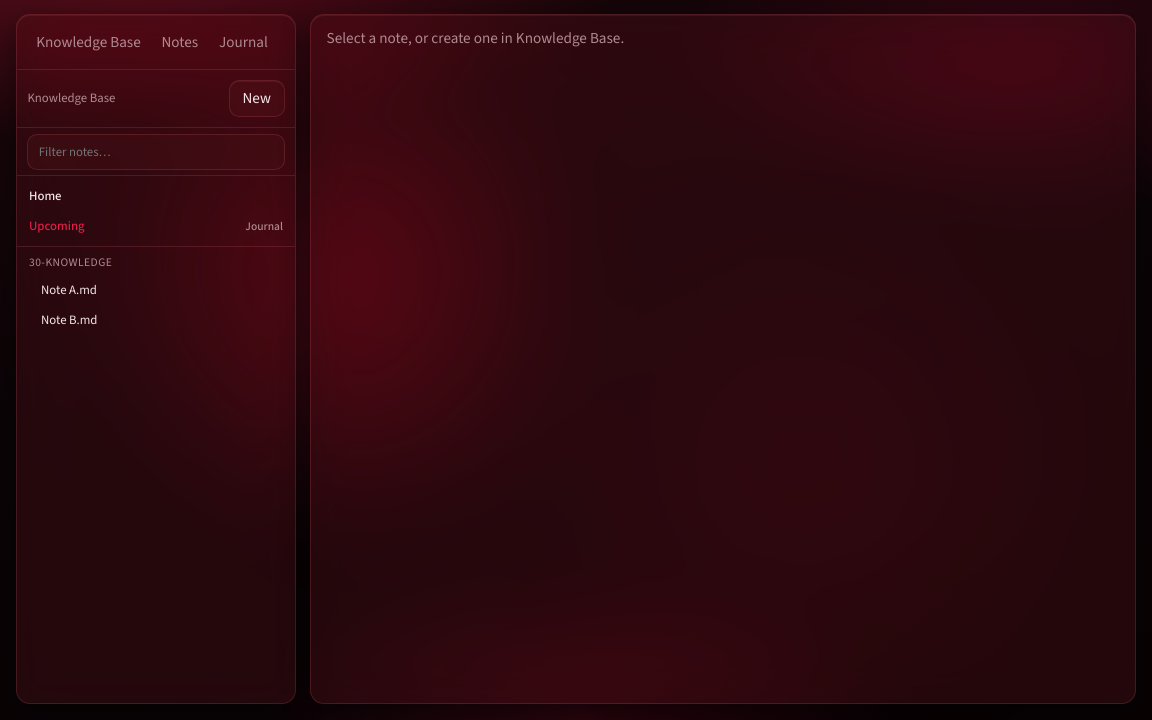
Scenario: KnowledgePane save guard › does not show a conflict banner when Save is clicked once
Click the button "Note A.md" at point(69, 290), box [17,274,295,305]
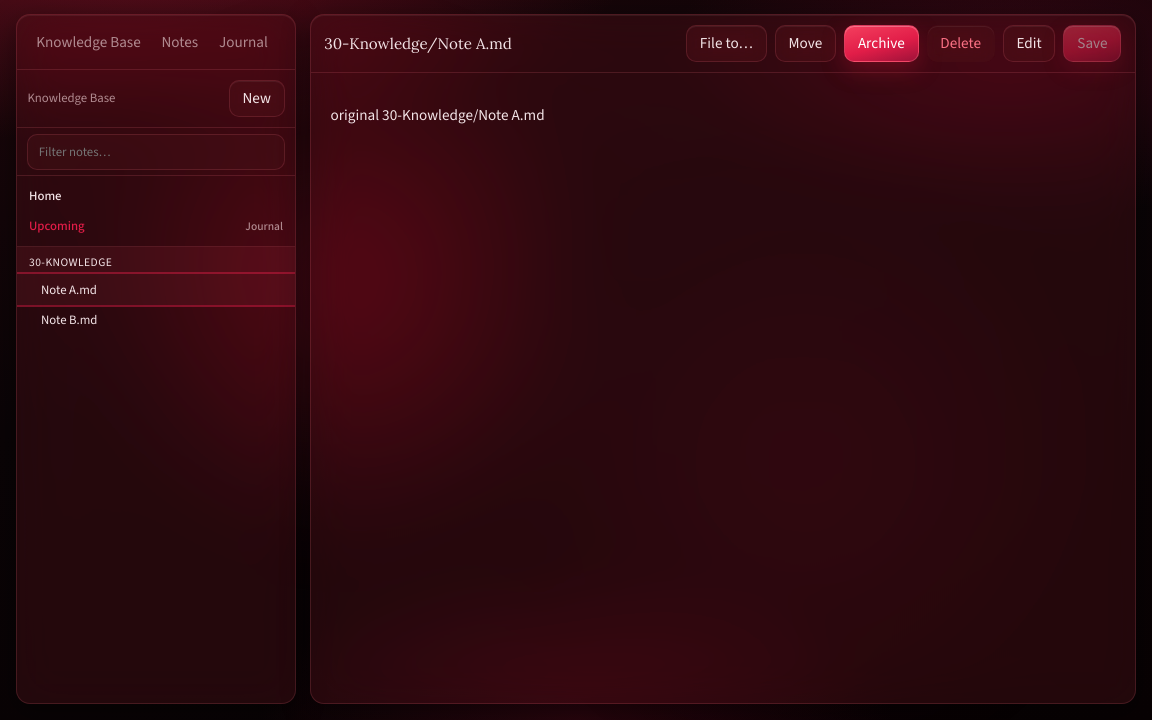
Click the button "Edit" at point(1029, 43), box [1003,25,1056,62]
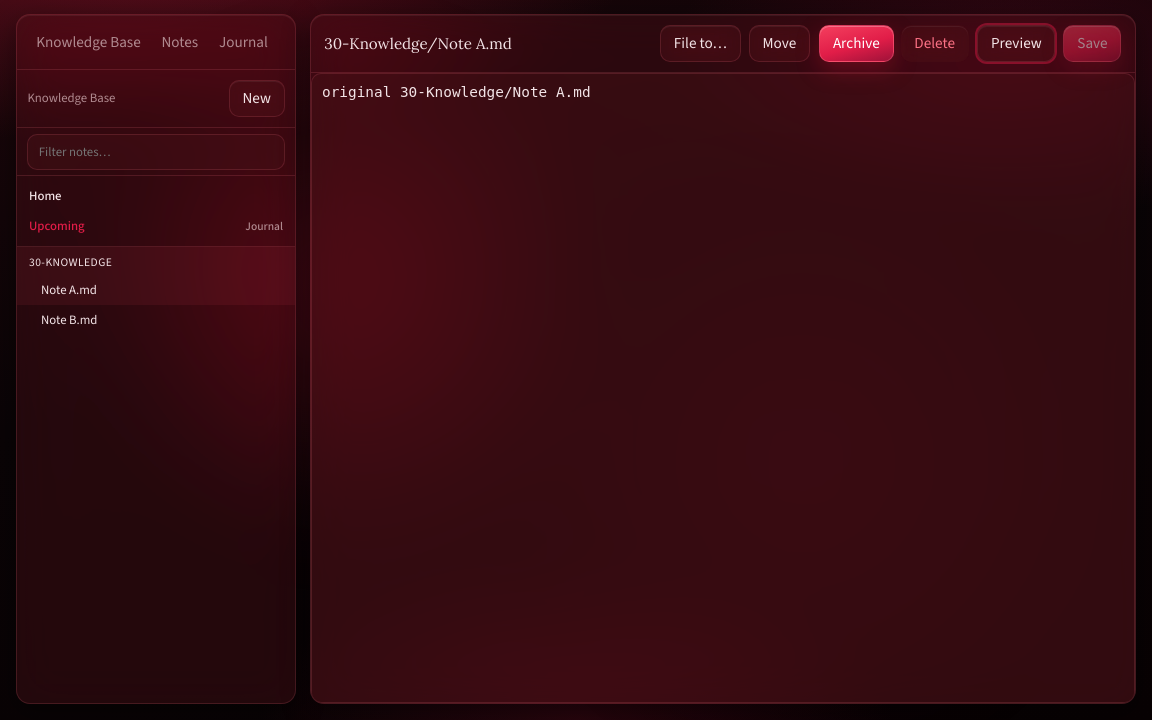
Type "hello" into the text box at point(723, 388), box [311,73,1135,703]
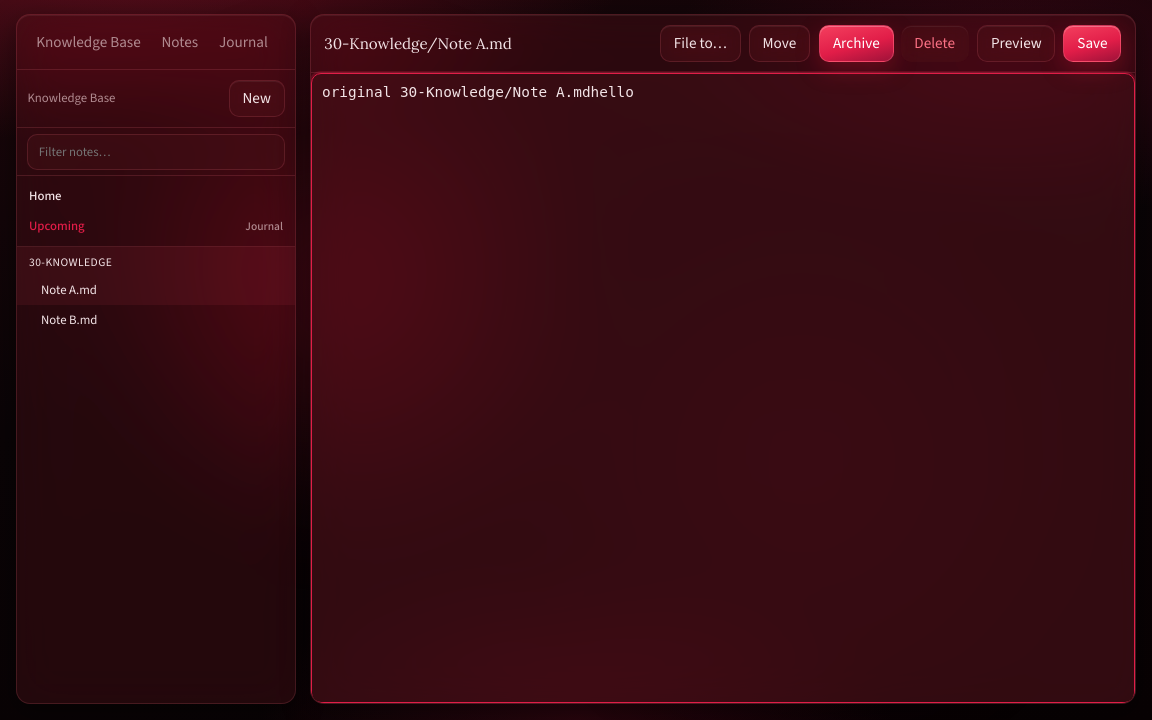
Click the button "Save" at point(1092, 43), box [1064,25,1121,62]
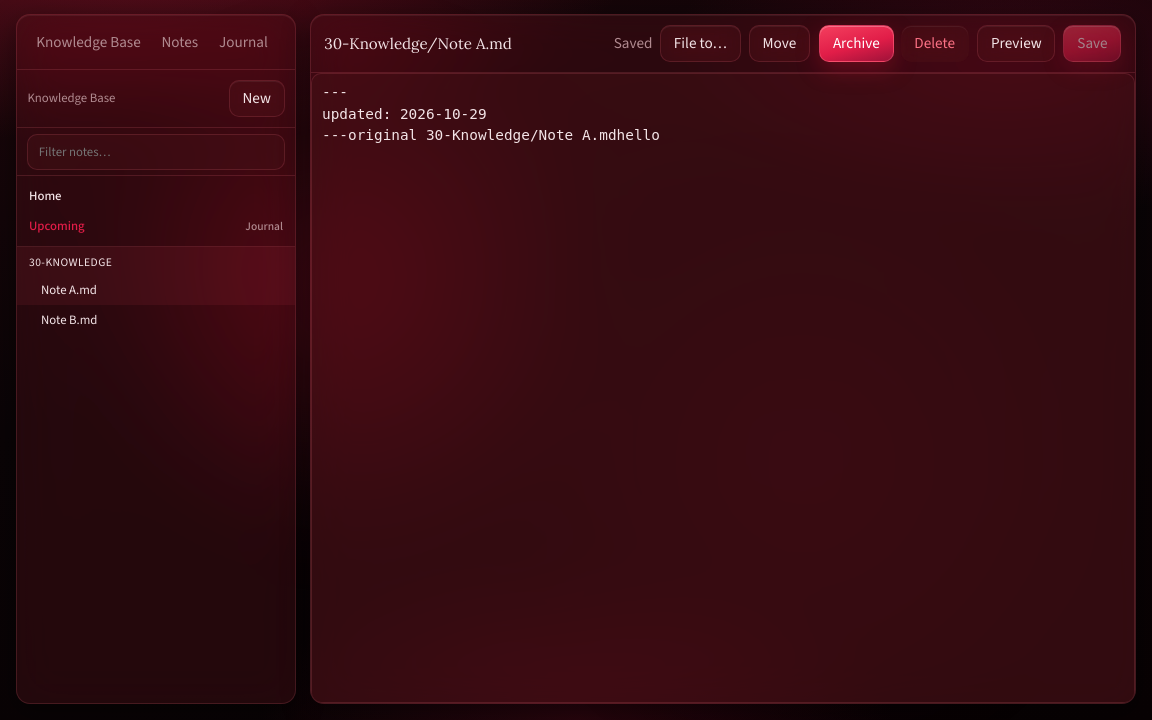
Now the text "Saved" is shown, box [614,32,652,54]
